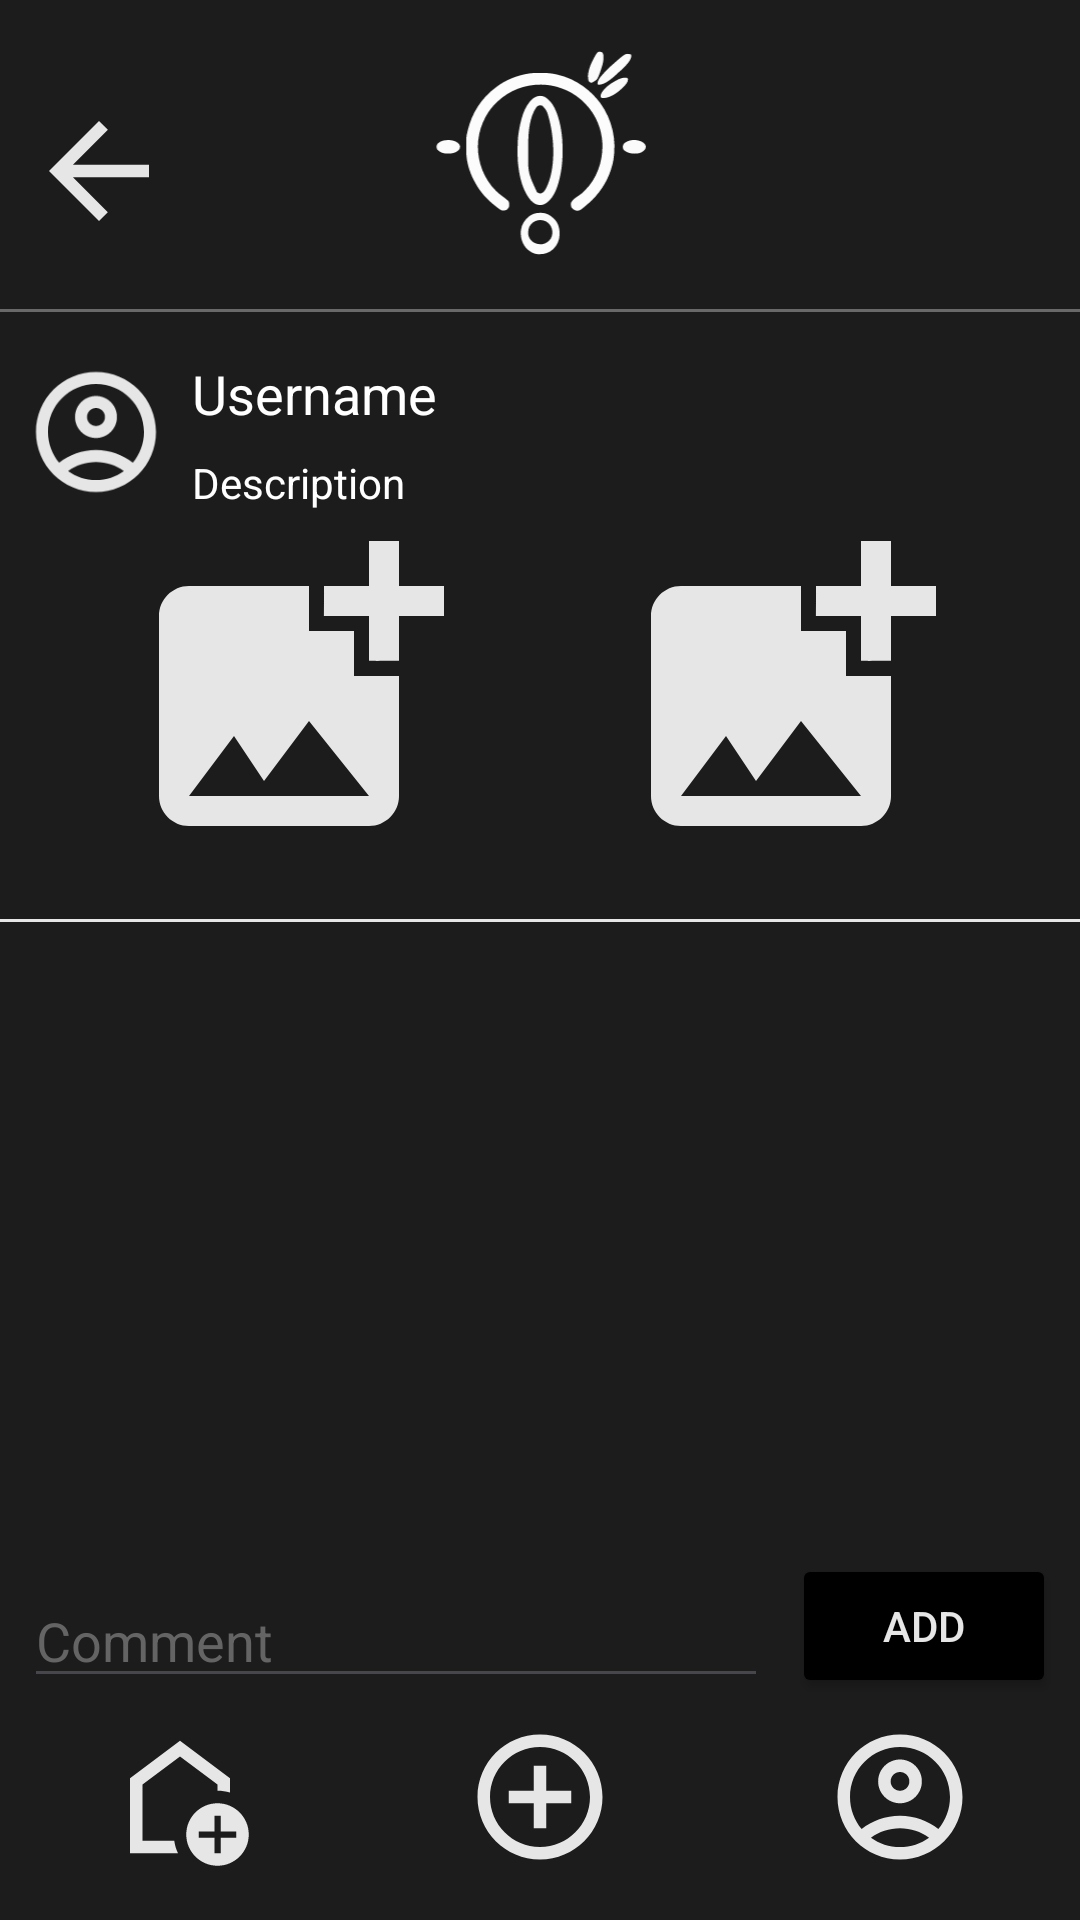

Icons on this 1080×1920 Android screen, each with the point to tap as point (x, y):
account circle: point (96, 432), point (900, 1797)
add circle: point (540, 1797)
add home: point (189, 1803)
add photo alternate: point (301, 683), point (793, 683)
back: point (99, 171)
